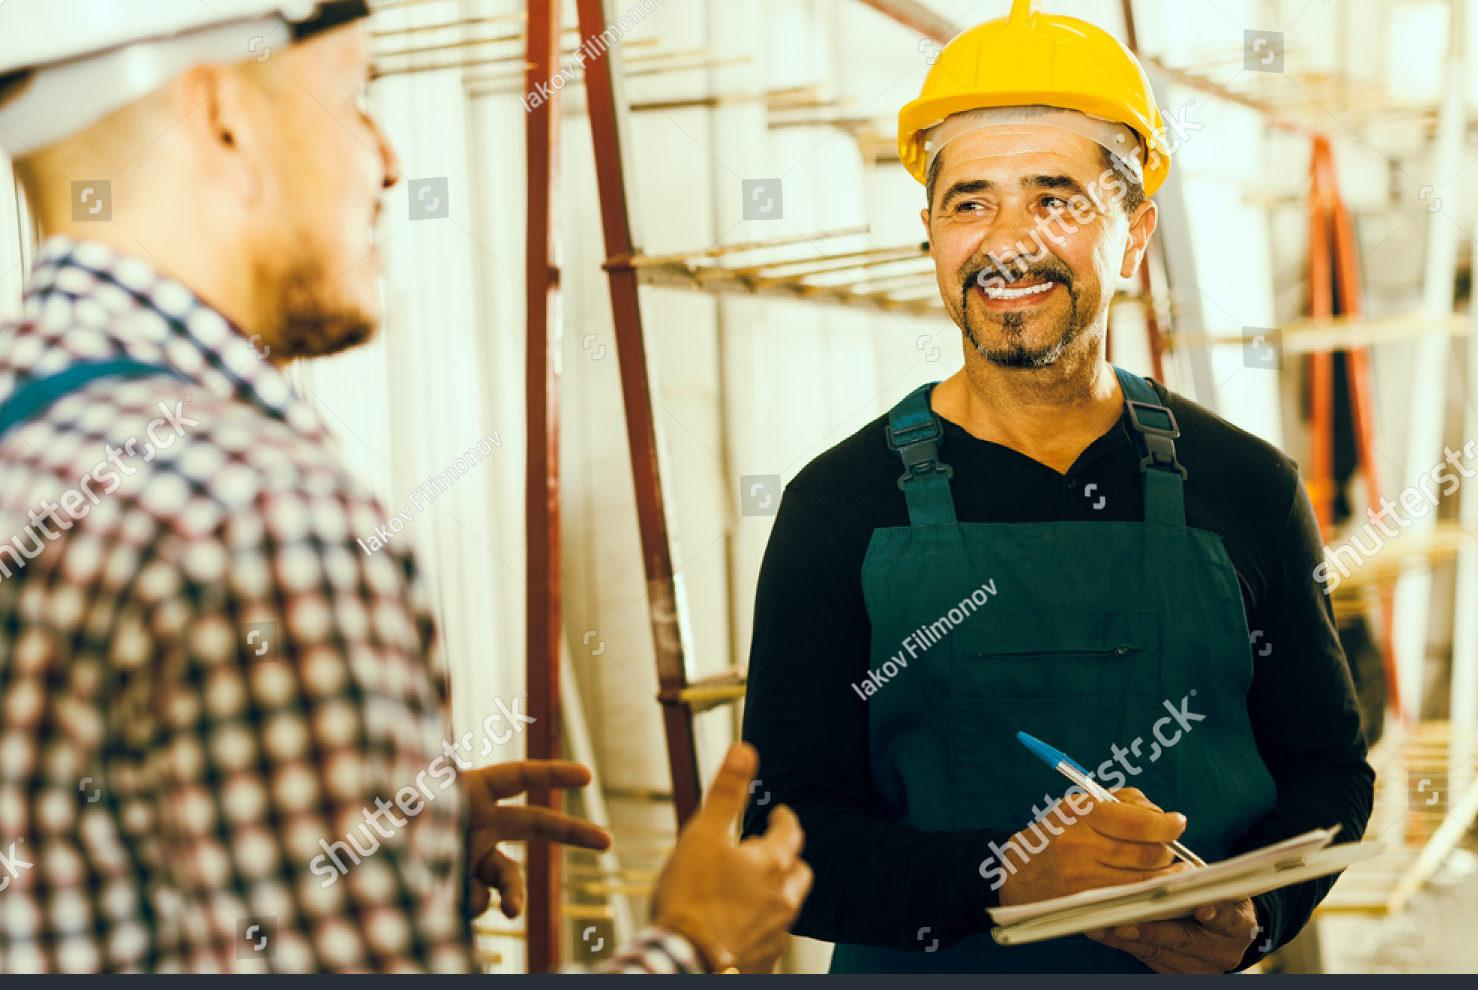helmet: (891, 4, 1178, 194)
